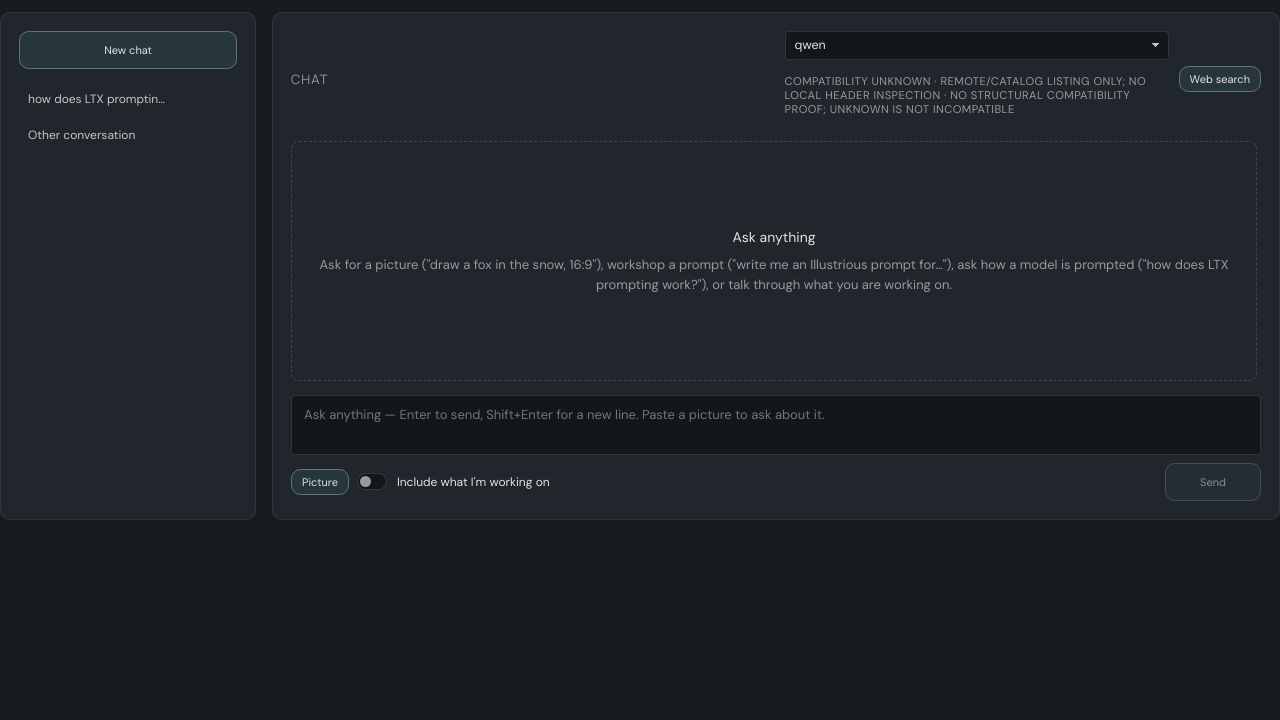
ignores a pending history result after root change
The width and height of the screenshot is (1280, 720).
Earlier steps of the test are not shown.
Later steps or results of the test are not shown.
Replace the text in the text box named "Message" with "new question" at point(776, 425), box [291,395,1261,455]
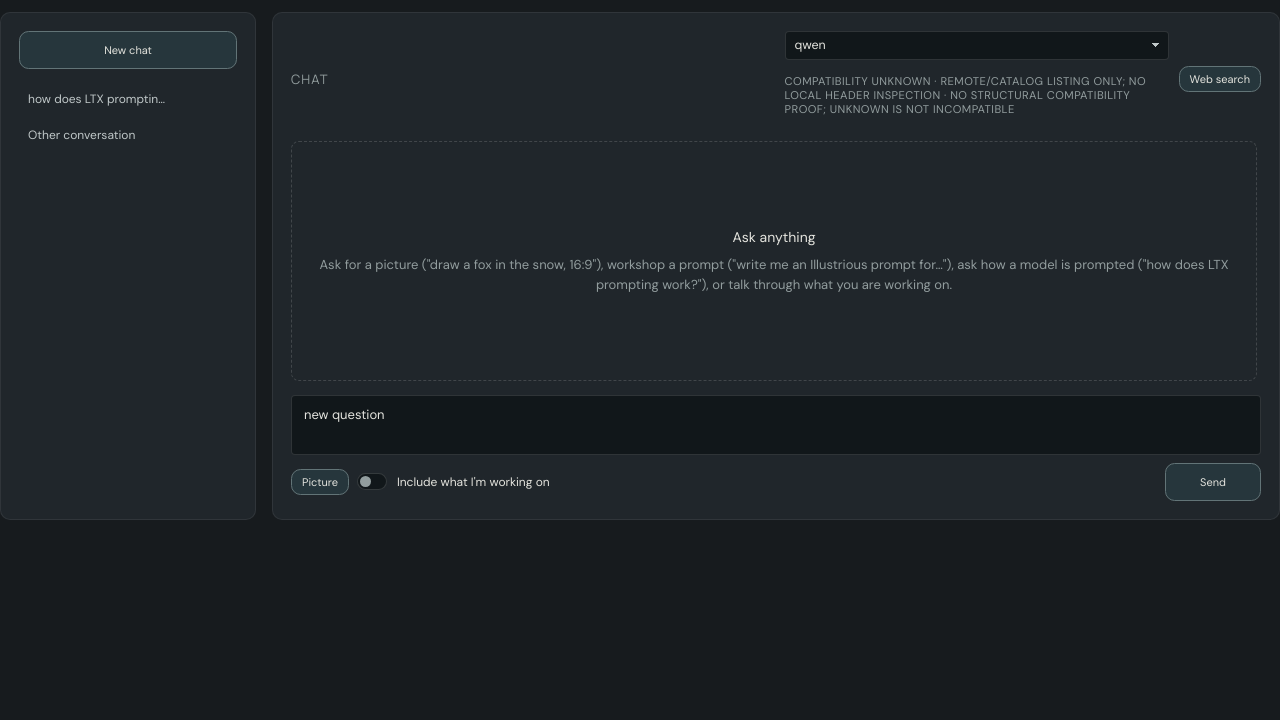
Expected: the button "Send" is enabled, [1165,463,1261,501]
